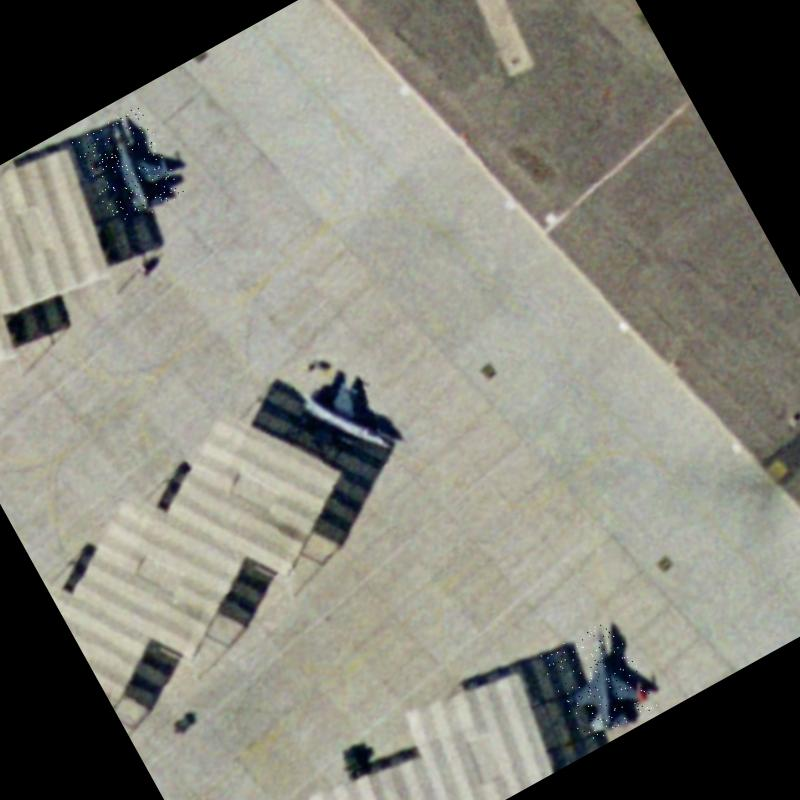A5: (536, 616, 658, 746), (281, 359, 400, 485), (70, 105, 187, 230)
